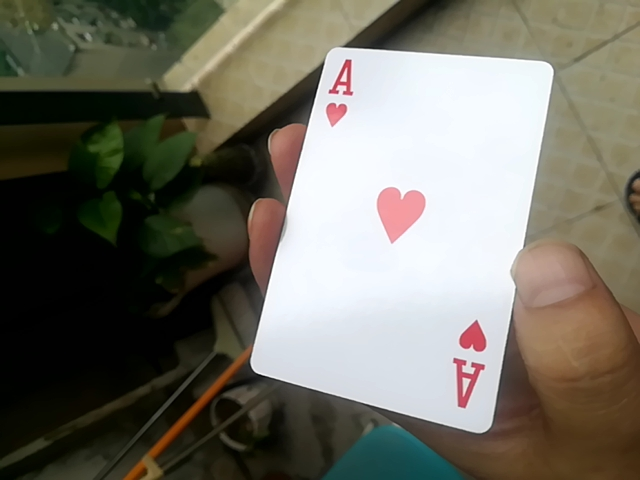hx a: (250, 49, 554, 438)
